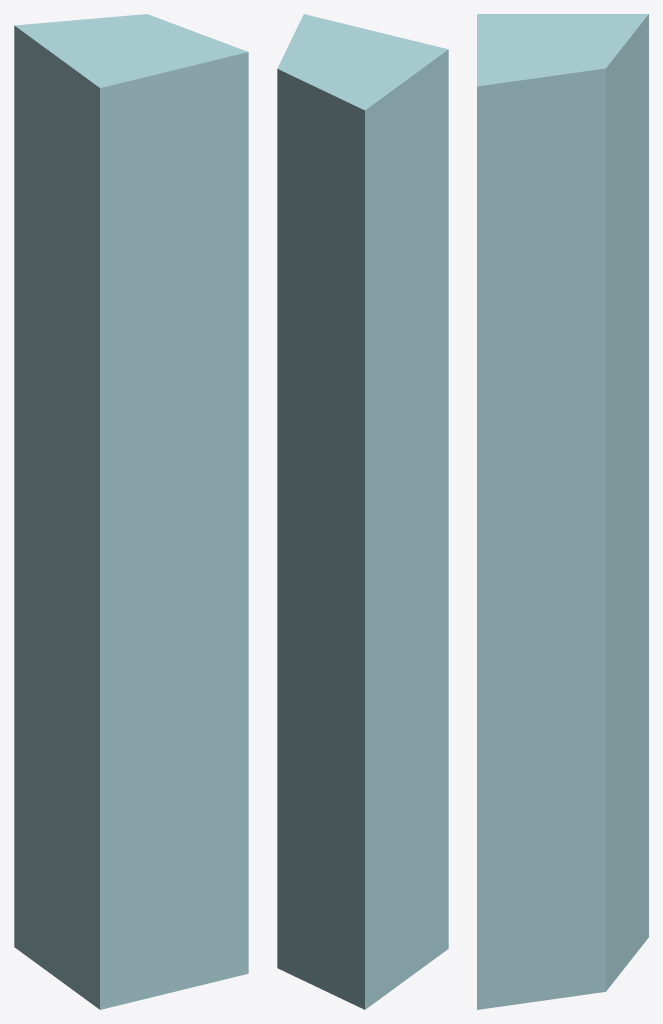
Rendered from cliff_corner_stone.glb.
The picture shows the model from 3 angles, left to right: view 1: azimuth 30°, elevation 25°; view 2: azimuth 150°, elevation 25°; view 3: azimuth 270°, elevation 25°; orthographic projection. The views are drawn at different scales.
Visible parts, largest first — view 1: cliff_corner_stone; view 2: cliff_corner_stone; view 3: cliff_corner_stone.
Part boxes in pixels (x1,y1,x2,y2): cliff_corner_stone: (14,14,248,1009); cliff_corner_stone: (277,14,448,1009); cliff_corner_stone: (477,14,648,1009).
Size of the model in its own units: 0.1685 by 1 by 0.1685.
